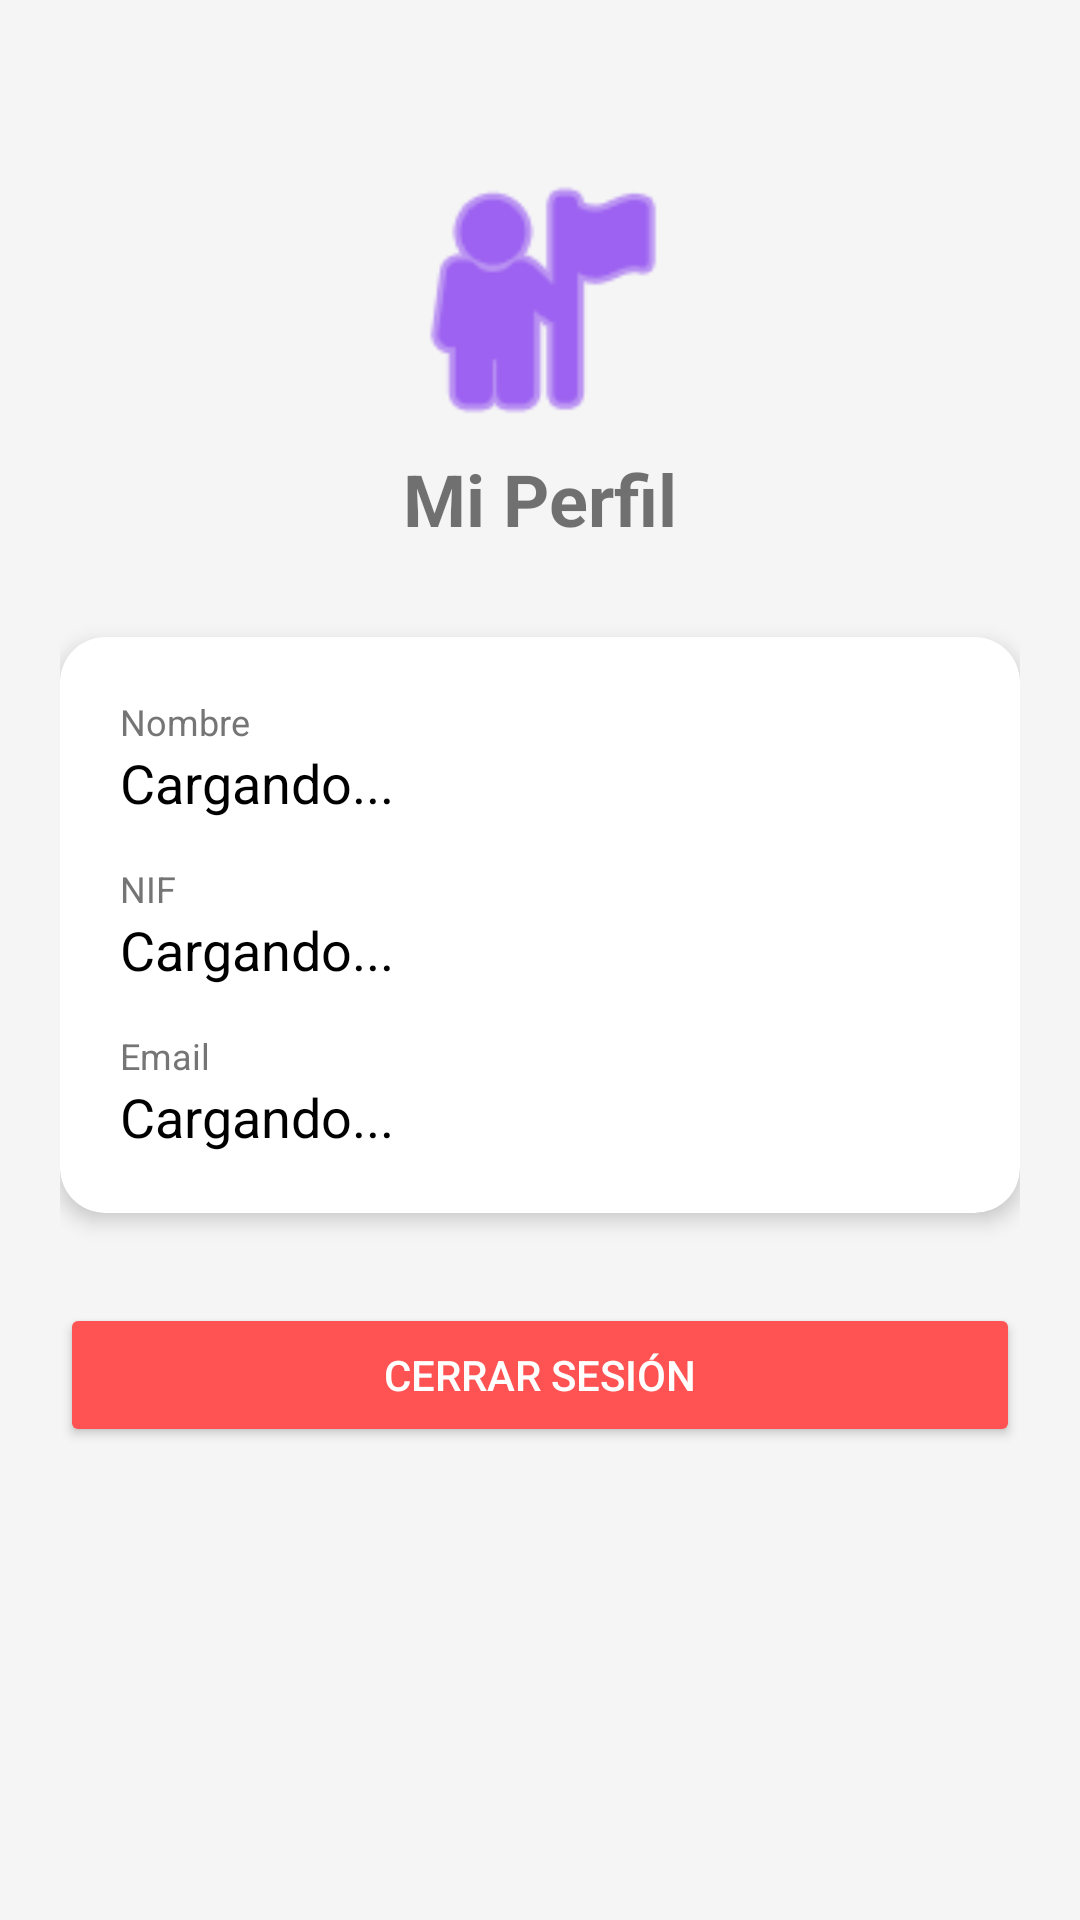

Screen size 1080 x 1920. Icon name, then its center in pixels as (x,y):
myplaces: (543,300)
